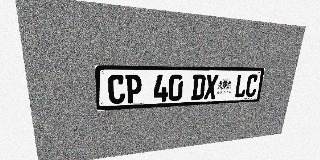0: (168, 74, 183, 101)
4: (153, 74, 169, 102)
C: (108, 74, 125, 104), (245, 74, 259, 97)
D: (191, 74, 206, 100)
L: (234, 74, 248, 98)
P: (126, 74, 142, 103)
X: (204, 74, 218, 99)
